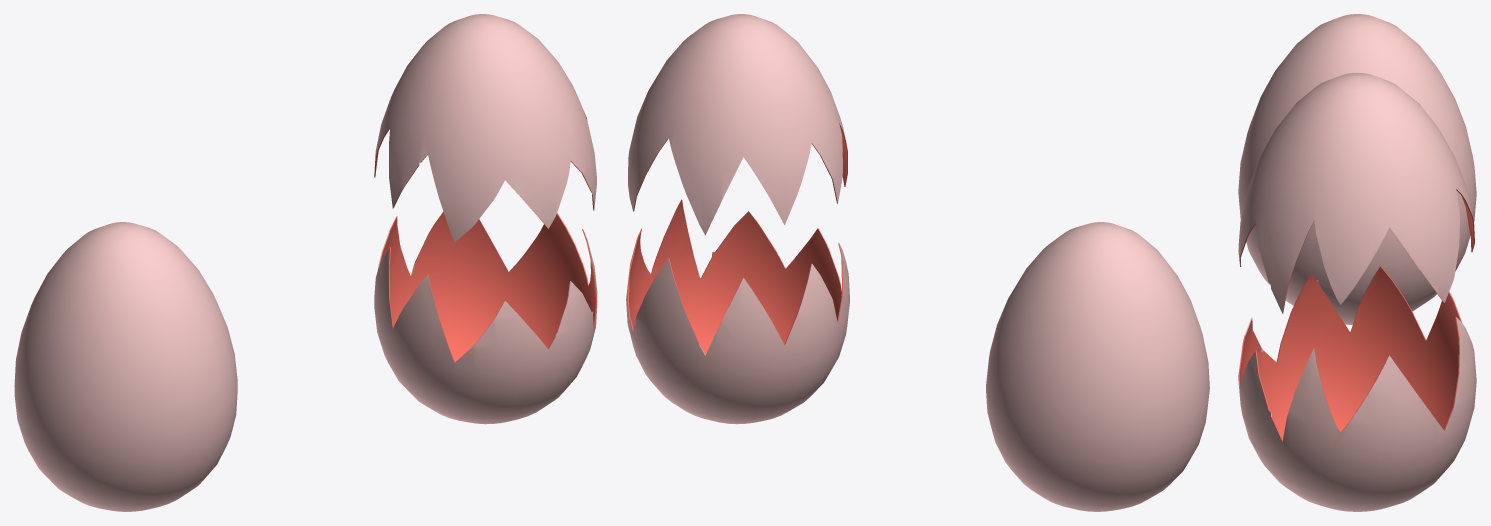
The model's file is Egg.fbx.
3 renders of one model, left to right at view 1: azimuth 30°, elevation 25°; view 2: azimuth 150°, elevation 25°; view 3: azimuth 270°, elevation 25°, orthographic. The views are drawn at different scales.
Visible parts, largest first — view 1: Egg, egg-broken2, egg-broken1; view 2: Egg, egg-broken2, egg-broken1; view 3: egg-broken2, egg-broken1, Egg.
Boxes of the visible parts, x1,y1,x2,y2 form: Egg: (14, 222, 237, 511); egg-broken2: (374, 211, 597, 424); egg-broken1: (374, 14, 596, 242); Egg: (986, 222, 1209, 511); egg-broken2: (626, 199, 849, 424); egg-broken1: (628, 14, 847, 235); egg-broken2: (1238, 266, 1476, 511); egg-broken1: (1238, 73, 1474, 313); Egg: (1238, 14, 1476, 324).
Size of the model in its own units: 62.31 by 42.52 by 21.85.
